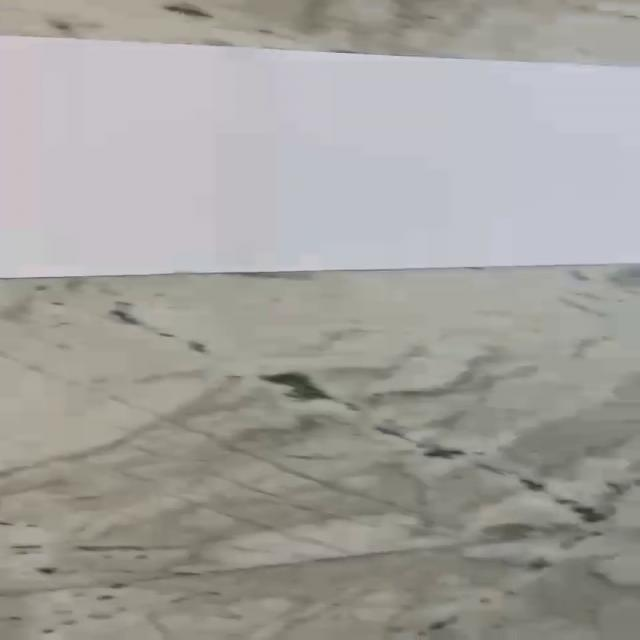road: (0, 35, 640, 278)
